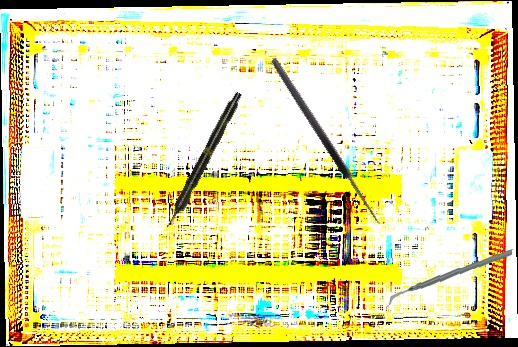Chopper: (387, 241, 513, 314)
Handpiece: (162, 89, 245, 231)
Hook Surgical: (268, 52, 392, 227)
